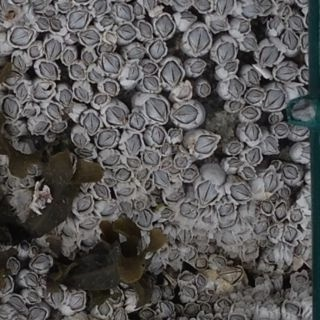Barnacle: (213, 256, 243, 282), (217, 41, 238, 75), (146, 96, 169, 123), (191, 25, 209, 56), (162, 60, 182, 87), (9, 26, 36, 46), (264, 88, 287, 111), (174, 104, 200, 124), (198, 180, 218, 205), (259, 45, 281, 67), (68, 10, 90, 31), (106, 105, 126, 128), (194, 135, 218, 153), (155, 13, 173, 37), (32, 82, 54, 101), (102, 54, 121, 76), (226, 76, 244, 99), (231, 183, 253, 201), (44, 38, 62, 60), (85, 112, 102, 134), (263, 169, 278, 193), (277, 64, 297, 82), (130, 110, 146, 132), (4, 71, 23, 89), (39, 63, 58, 81), (282, 30, 299, 50), (98, 130, 117, 147), (141, 76, 160, 93), (149, 39, 166, 58), (7, 294, 27, 310), (126, 133, 142, 153), (81, 30, 101, 46), (241, 34, 258, 52), (117, 23, 135, 40), (137, 20, 154, 38), (289, 14, 306, 32), (217, 0, 235, 17), (209, 18, 228, 34), (69, 292, 86, 309), (153, 170, 170, 187), (124, 64, 139, 83), (139, 209, 153, 229), (245, 147, 261, 164), (69, 64, 86, 80), (116, 3, 132, 20), (180, 201, 198, 216), (142, 150, 160, 165), (32, 255, 51, 269), (246, 89, 265, 103), (274, 201, 287, 221), (190, 59, 207, 74), (92, 0, 109, 15), (51, 287, 65, 305), (283, 225, 297, 243), (79, 217, 100, 229), (291, 122, 309, 136), (152, 126, 165, 145), (248, 68, 261, 87), (126, 47, 145, 60), (22, 272, 38, 287), (104, 80, 119, 96), (141, 61, 158, 75), (241, 4, 258, 18), (246, 122, 259, 140), (283, 165, 298, 180), (197, 82, 212, 97), (285, 302, 301, 316), (109, 286, 123, 302), (254, 219, 270, 233), (218, 202, 235, 215), (93, 184, 110, 197), (59, 88, 72, 105), (76, 86, 89, 103), (29, 307, 47, 319), (0, 275, 12, 293), (16, 82, 28, 100), (178, 228, 192, 243), (289, 208, 304, 222), (178, 85, 193, 99), (99, 15, 114, 29), (181, 168, 197, 181), (74, 131, 87, 147), (243, 106, 259, 119), (81, 49, 94, 65), (258, 0, 274, 13), (161, 300, 175, 314), (237, 20, 251, 34), (50, 18, 64, 32), (151, 259, 164, 274), (80, 236, 95, 249), (223, 231, 236, 246), (34, 121, 49, 134), (99, 299, 111, 315), (104, 154, 120, 166), (79, 196, 92, 210), (13, 54, 26, 68), (268, 17, 281, 31), (27, 291, 42, 303), (116, 168, 131, 180), (181, 11, 196, 23), (193, 0, 211, 10), (242, 166, 255, 179), (88, 69, 101, 82), (114, 307, 128, 319), (8, 258, 20, 272), (63, 50, 75, 64), (185, 247, 196, 262), (168, 190, 183, 201), (94, 94, 109, 105), (99, 43, 114, 54), (118, 185, 134, 195), (183, 285, 196, 297), (120, 199, 133, 211), (176, 155, 188, 168), (275, 124, 288, 136), (36, 17, 49, 29), (126, 157, 140, 168), (5, 124, 19, 135), (281, 5, 292, 19), (151, 286, 160, 303), (78, 147, 93, 157), (143, 0, 158, 10), (161, 207, 173, 219), (261, 201, 273, 213), (186, 303, 199, 314), (266, 249, 277, 262), (170, 248, 181, 261), (270, 226, 281, 239), (138, 167, 149, 180), (228, 158, 241, 169), (169, 129, 182, 140), (133, 3, 144, 16), (142, 309, 156, 319), (282, 260, 292, 274), (33, 0, 47, 10), (64, 221, 73, 236), (196, 257, 208, 268), (54, 121, 66, 132), (106, 31, 117, 43), (164, 283, 174, 296), (228, 143, 241, 153), (243, 236, 259, 244), (238, 296, 256, 303), (279, 187, 291, 197), (235, 303, 252, 310), (295, 274, 308, 283), (0, 308, 10, 319), (59, 0, 70, 10), (219, 299, 231, 308), (174, 0, 192, 6), (181, 273, 194, 281), (261, 234, 269, 247), (21, 241, 31, 251), (8, 178, 17, 189), (161, 143, 170, 154), (198, 294, 210, 302), (246, 246, 258, 254), (201, 303, 211, 312), (198, 275, 207, 285), (161, 159, 171, 168), (255, 290, 266, 298), (136, 200, 145, 209), (20, 177, 29, 186), (295, 244, 303, 254), (169, 166, 179, 174), (271, 114, 279, 124), (145, 179, 152, 190), (27, 166, 36, 174), (0, 165, 7, 174), (200, 314, 211, 319)
